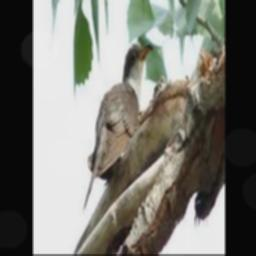Cuckoo: (83, 42, 153, 211)
